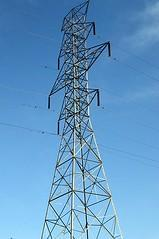power_tower: (42, 1, 125, 239)
